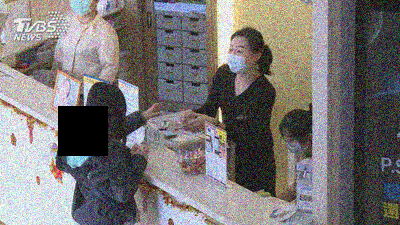with_mask: (227, 43, 252, 76), (281, 132, 308, 156)
